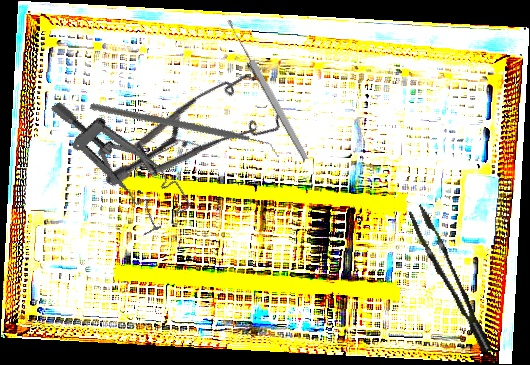Chopper: (88, 49, 281, 214)
Speculum: (104, 32, 303, 248), (48, 71, 194, 245)
Surgical Spoon: (225, 17, 310, 162)
Tissue Forceps: (407, 198, 492, 361)
